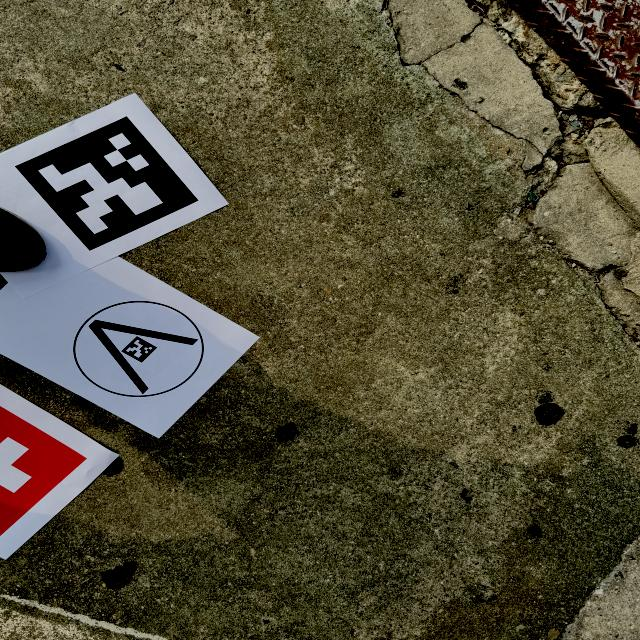ArUro mark: (10, 112, 205, 255)
rescue point: (0, 399, 92, 542)
vertiport: (66, 297, 212, 401)
